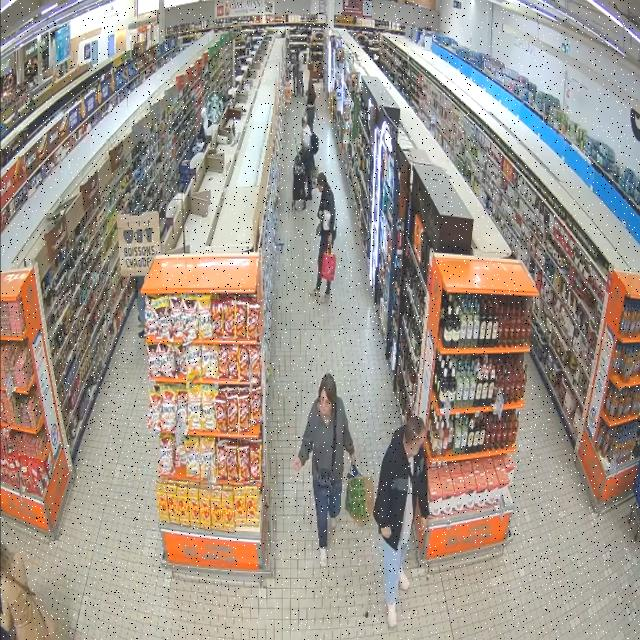article: (323, 210, 331, 230)
bags: (346, 467, 373, 526), (317, 415, 336, 497), (316, 190, 329, 236), (321, 246, 336, 282), (311, 134, 319, 155), (312, 166, 319, 181)
hands: (381, 526, 391, 539), (420, 518, 427, 535), (294, 458, 302, 472), (350, 453, 355, 467), (318, 210, 323, 220), (329, 233, 332, 246)
person: (294, 374, 355, 567), (374, 416, 428, 627), (0, 543, 53, 639), (310, 173, 335, 296), (302, 117, 314, 200)
